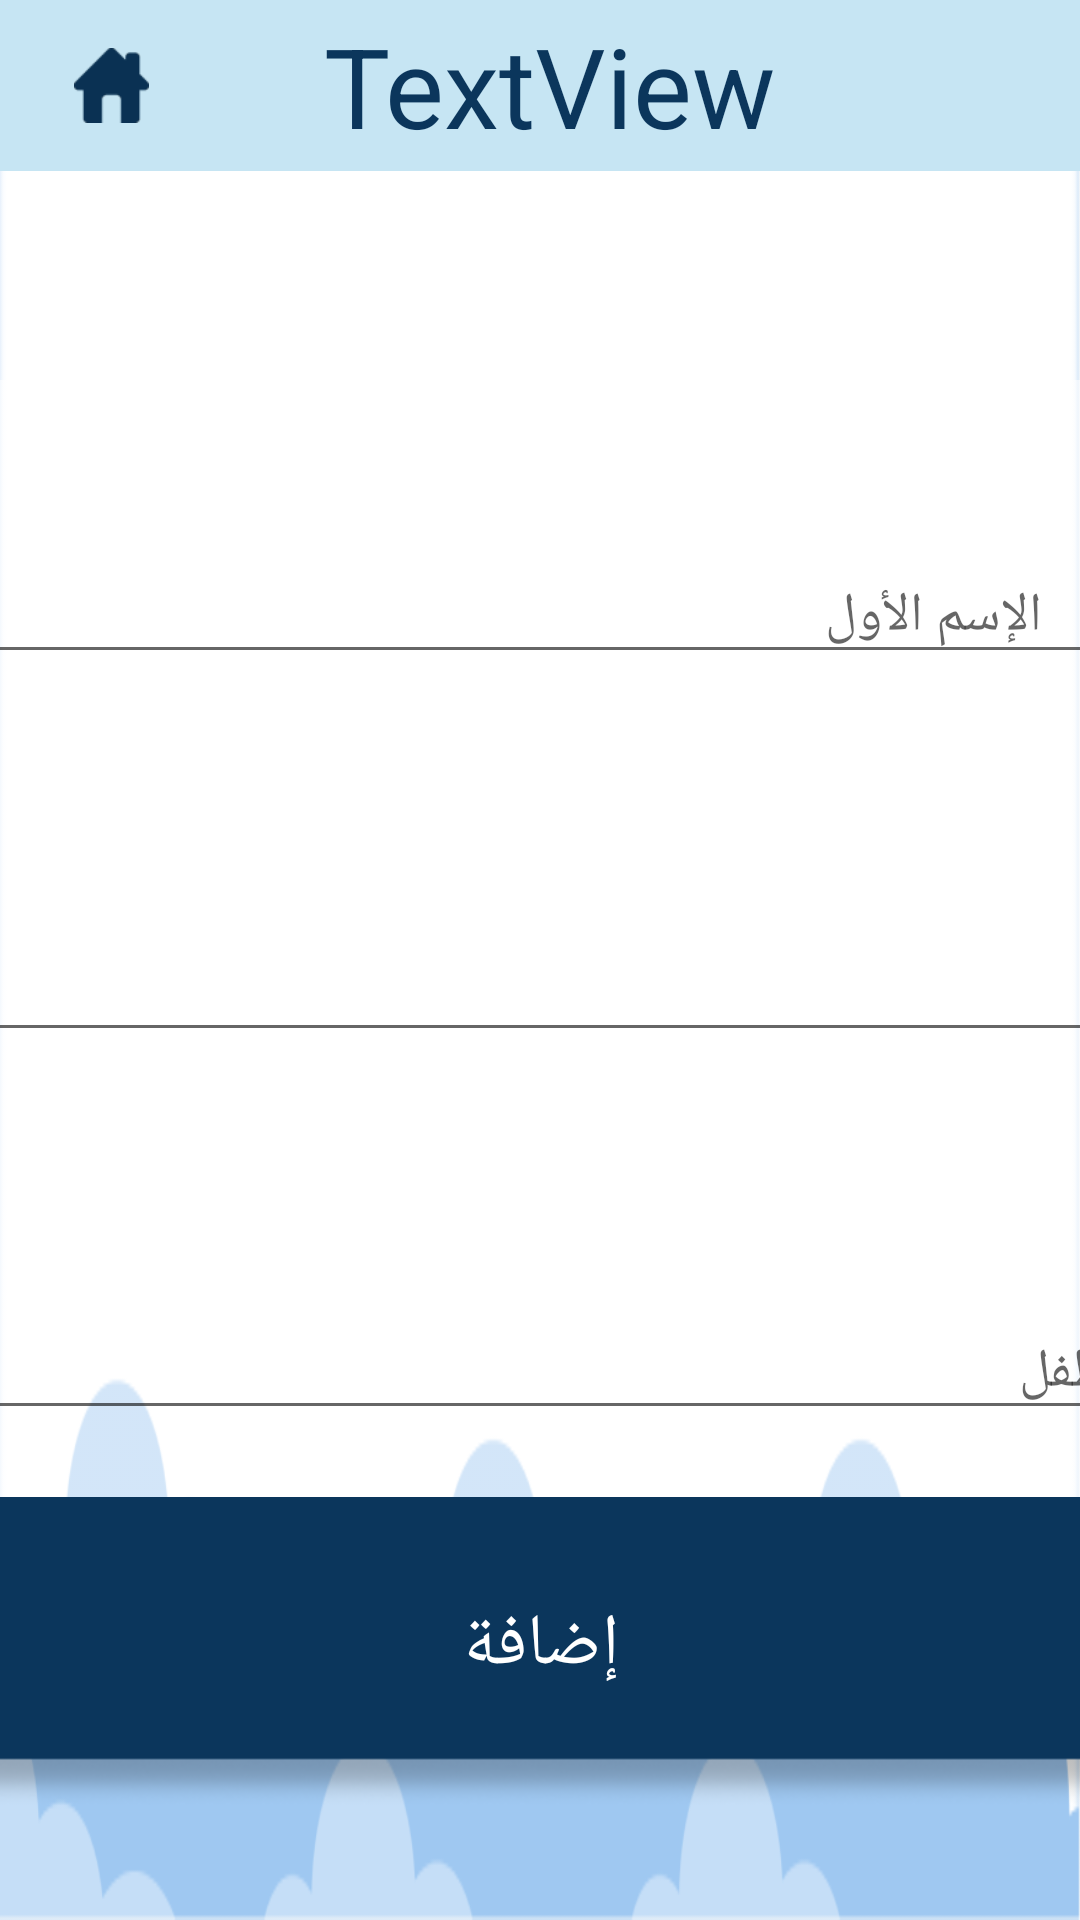

Named icons in this screenshot (1080×1920) and their bounding boxes, [x1,y1,x2,y2]:
home: [74,48,149,123]
